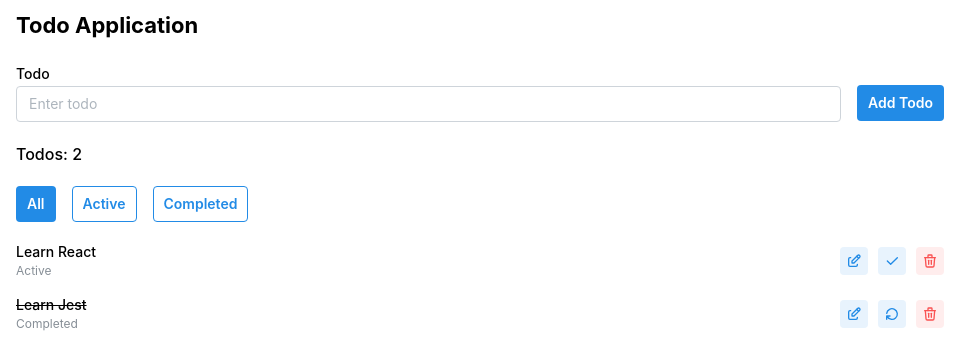
it: Todo Application › filters completed todos
Click the button "Completed". click: (200, 204)
box: [152,186,248,222]
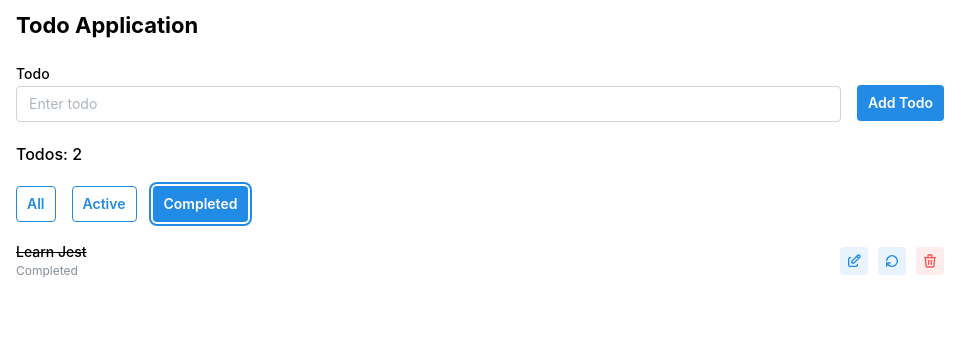
expect the text "Learn Jest" is shown: met, box [16,242,87,263]
expect the text "Learn React" is gone: met
